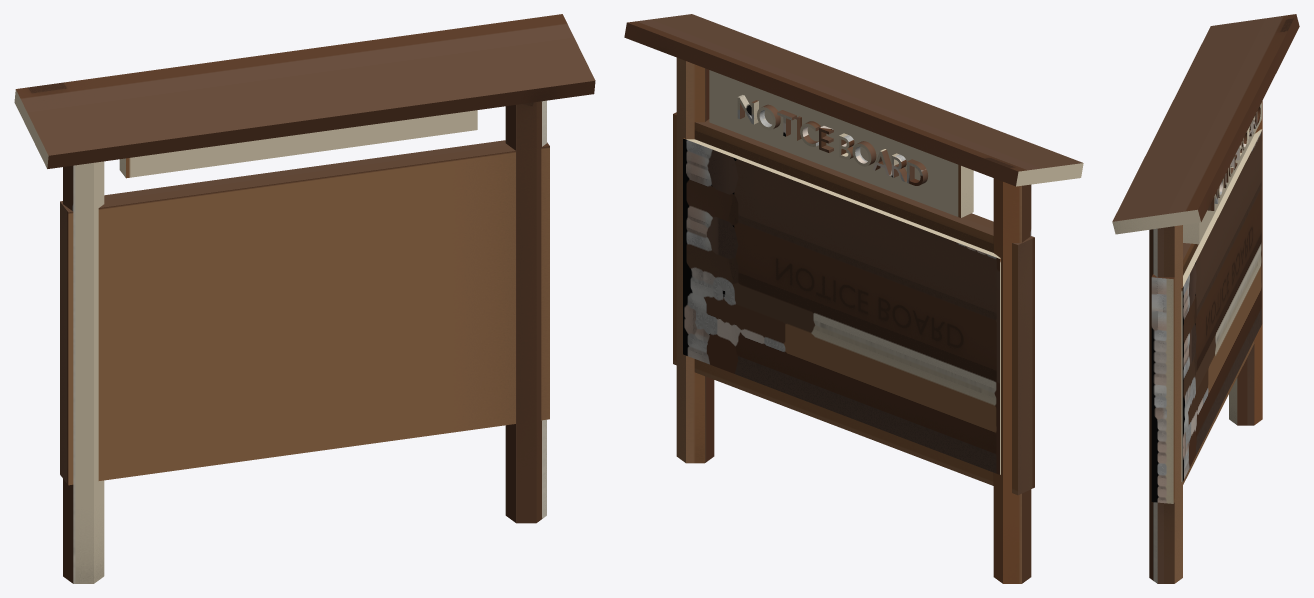
Rendered from hub_board.fbx.
3 renders of one model, left to right at view 1: azimuth 30°, elevation 25°; view 2: azimuth 150°, elevation 25°; view 3: azimuth 270°, elevation 25°, orthographic. The views are drawn at different scales.
Parts seen in each view (by area): view 1: hub_board_body; view 2: hub_board_body; view 3: hub_board_body.
Part boxes in pixels (x1,y1,x2,y2): hub_board_body: [14, 14, 595, 583]; hub_board_body: [624, 14, 1083, 583]; hub_board_body: [1112, 14, 1299, 583].
Size of the model in its own units: 855 by 764 by 332.
Materials: 1 (1 with a texture image).
